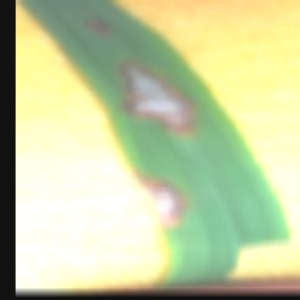Brown_Spot: (114, 48, 206, 144), (124, 169, 196, 234), (75, 6, 130, 48)
